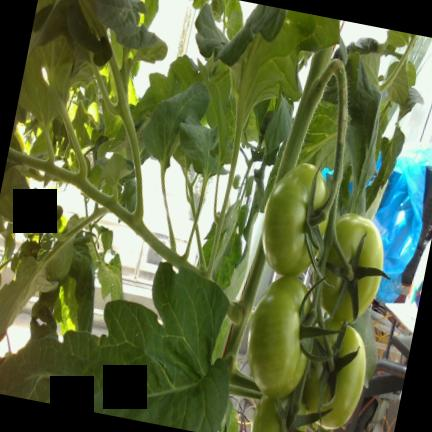6kp_peduncle: (292, 45, 348, 135)
6kp_petiole: (223, 246, 266, 369)
MainStem: (274, 46, 334, 185), (222, 236, 267, 394)
tomato: (248, 276, 311, 398), (262, 164, 328, 275), (321, 213, 388, 322), (303, 320, 366, 428), (250, 360, 331, 432)
